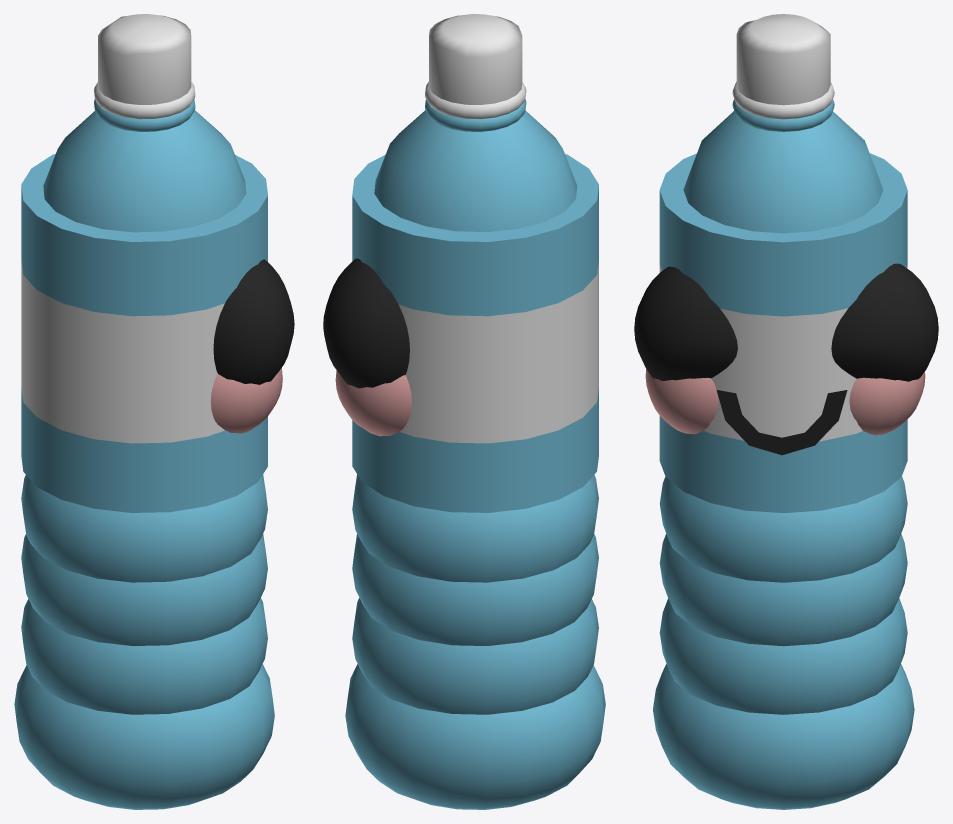
The model's file is WaterBottle.fbx.
The picture shows the model from 3 angles, left to right: view 1: azimuth 30°, elevation 25°; view 2: azimuth 150°, elevation 25°; view 3: azimuth 270°, elevation 25°; orthographic projection.
Parts seen in each view (by area): view 1: polySurface7; view 2: polySurface7; view 3: polySurface7.
Boxes of the visible parts, x1,y1,x2,y2 form: polySurface7: (14,14,294,809); polySurface7: (323,14,605,809); polySurface7: (634,14,938,809).
Bounding box in the file's own units: 1.05 × 3.34 × 1.23.
